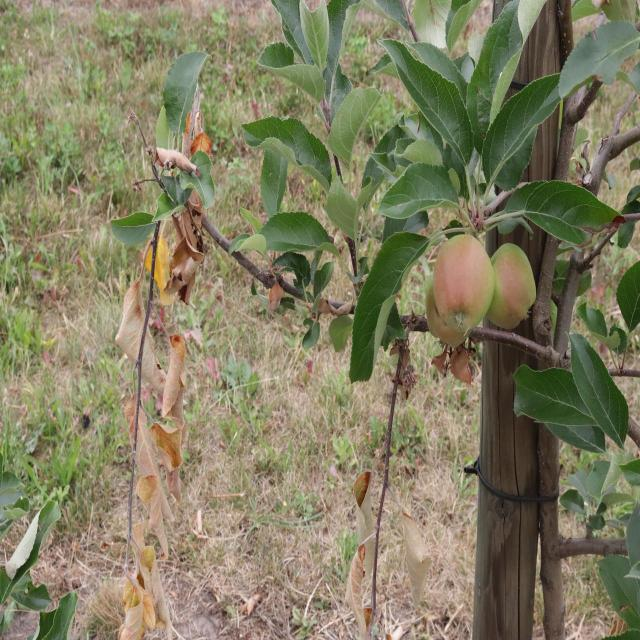-FireBlight-: (160, 190, 218, 304), (114, 274, 170, 378), (129, 521, 165, 640), (352, 468, 378, 632), (162, 326, 194, 419), (124, 393, 156, 478), (146, 426, 184, 489), (142, 464, 170, 546), (432, 343, 480, 386), (158, 144, 200, 178), (392, 334, 410, 390), (314, 298, 356, 314), (264, 276, 278, 302)
